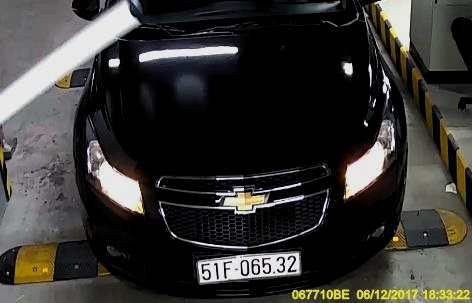plate: (191, 250, 305, 284)
